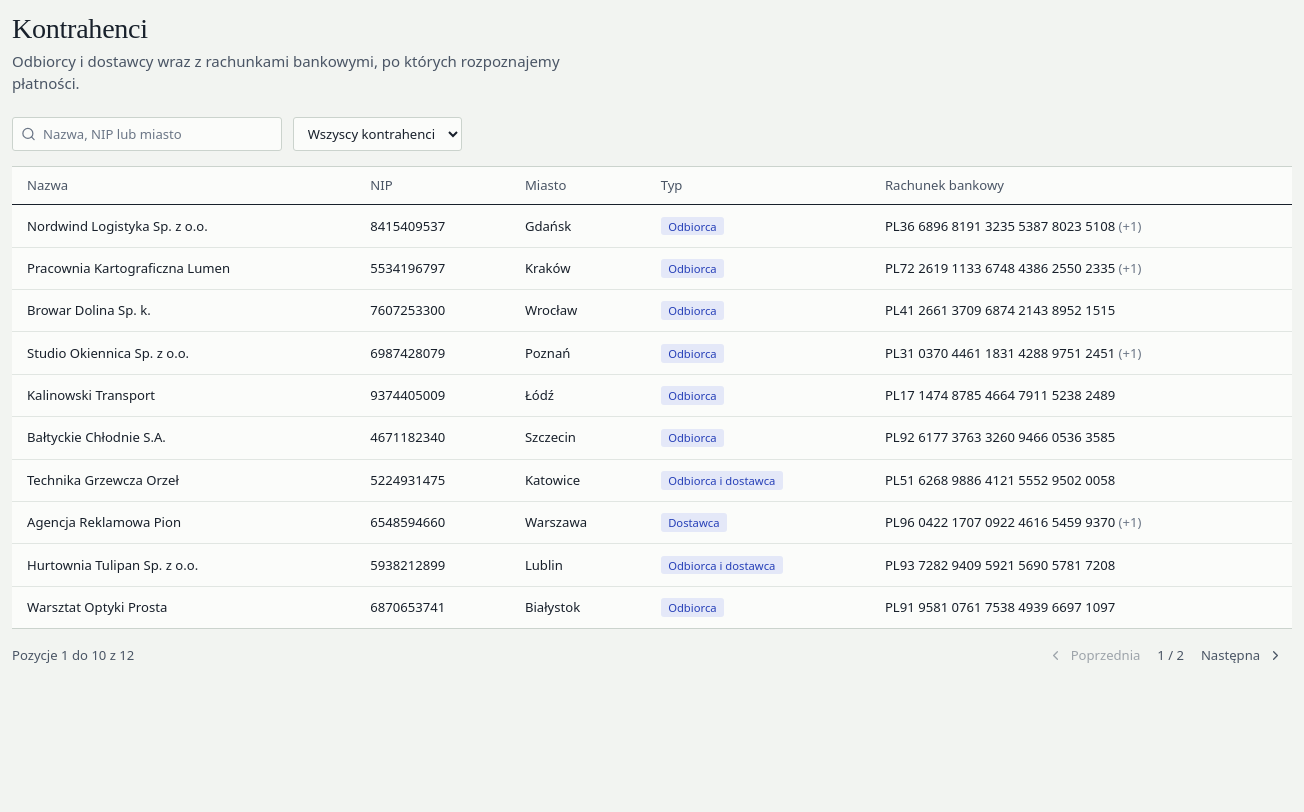
Scenario: CounterpartiesPage › pokazuje stan pusty, gdy nic nie pasuje
The width and height of the screenshot is (1304, 812).
In the search field: (147, 134) [12, 117, 282, 151], type "zzzzzz"
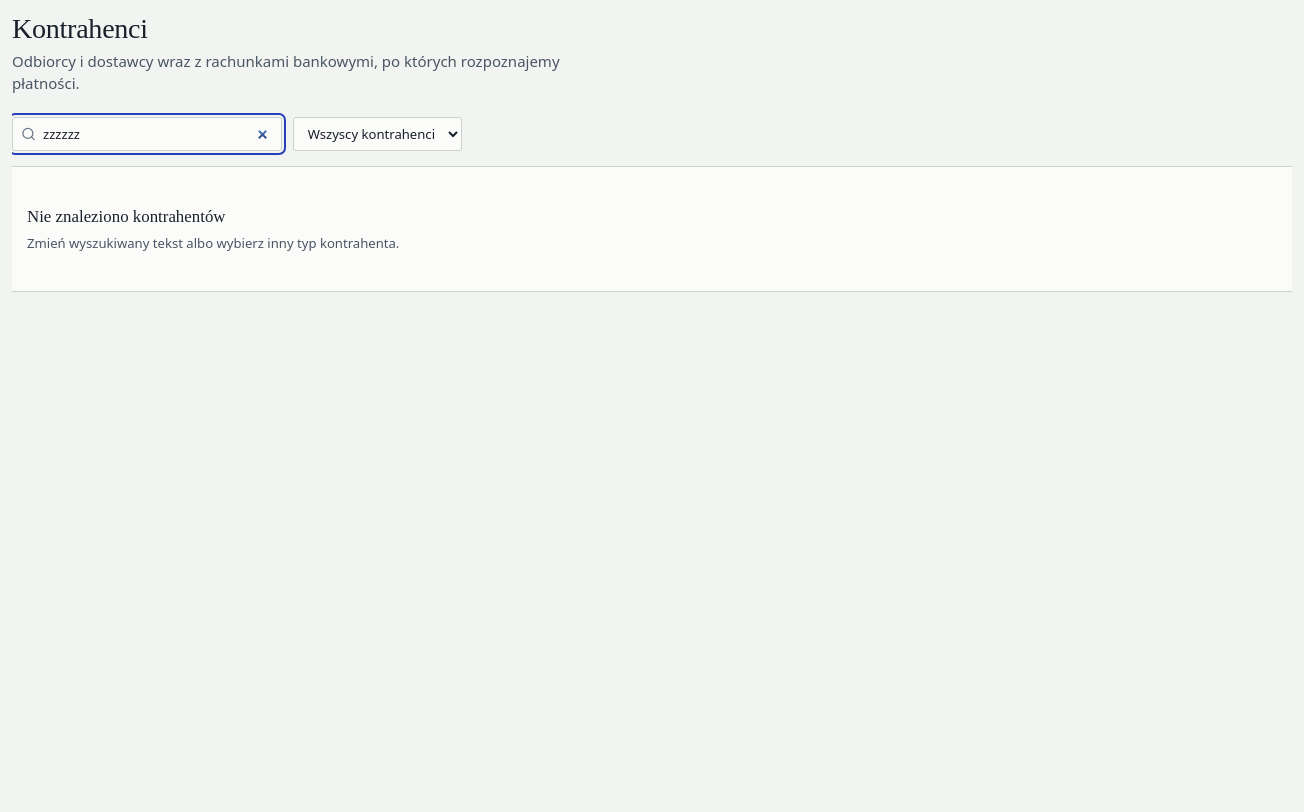
Check: the text "Nie znaleziono kontrahentów" is shown, box [27, 204, 226, 231]
